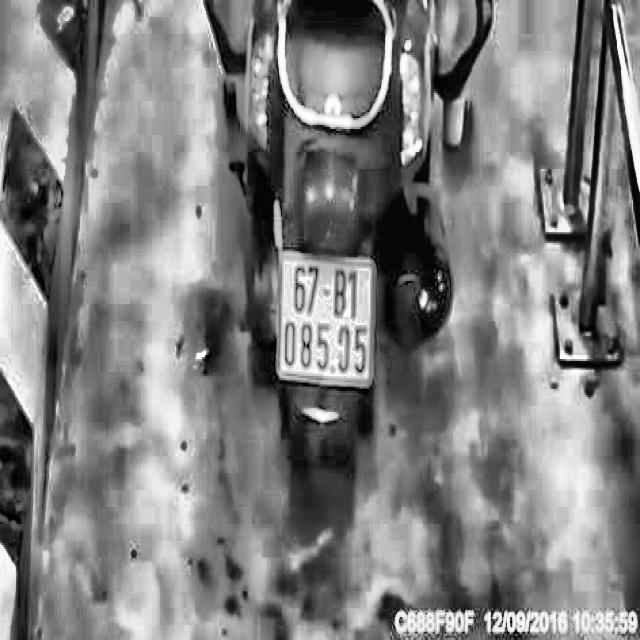plate: (274, 241, 377, 393)
